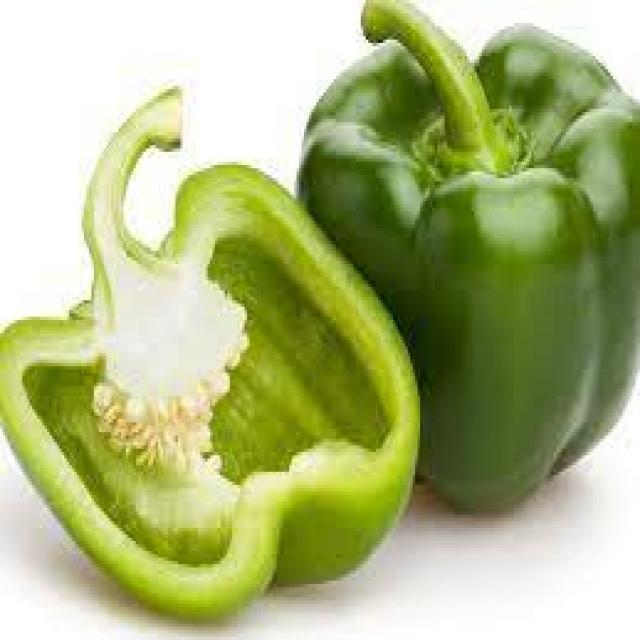Pepper: (0, 90, 421, 626), (299, 24, 640, 518)
